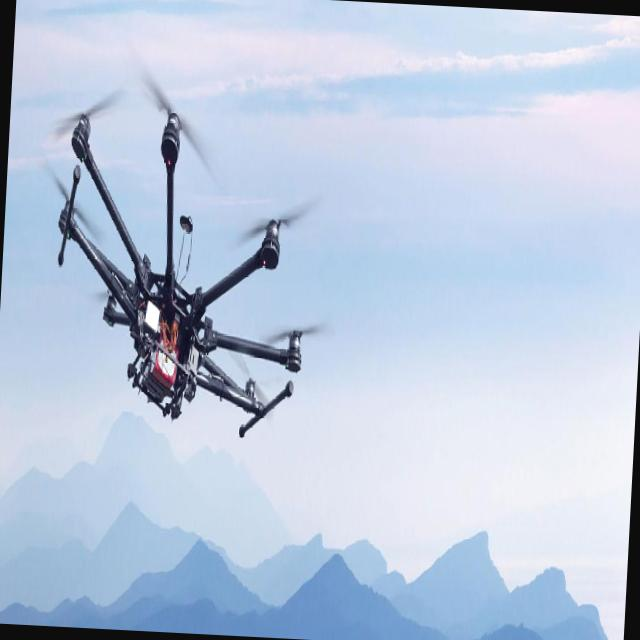drone: (45, 96, 317, 445)
